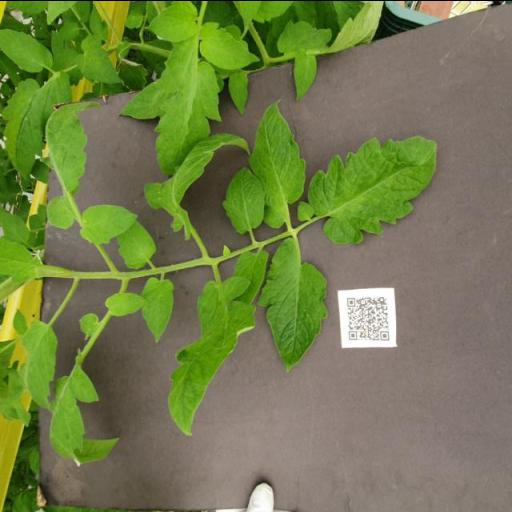Healthy: (306, 133, 438, 245), (166, 276, 258, 436), (256, 238, 328, 374), (152, 39, 223, 176), (2, 70, 72, 178), (248, 98, 307, 226), (50, 361, 120, 466), (44, 99, 98, 229), (21, 319, 59, 408), (222, 164, 268, 234), (199, 20, 261, 68), (138, 274, 176, 342), (0, 26, 56, 72), (80, 204, 140, 244), (142, 0, 198, 42)
